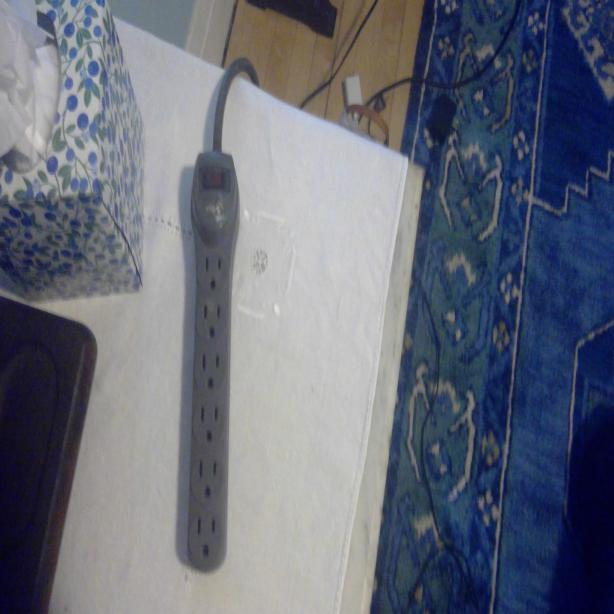typeb: (191, 447, 224, 501), (191, 512, 220, 562), (195, 395, 222, 443), (201, 250, 228, 296), (197, 347, 223, 392), (198, 303, 226, 341)
